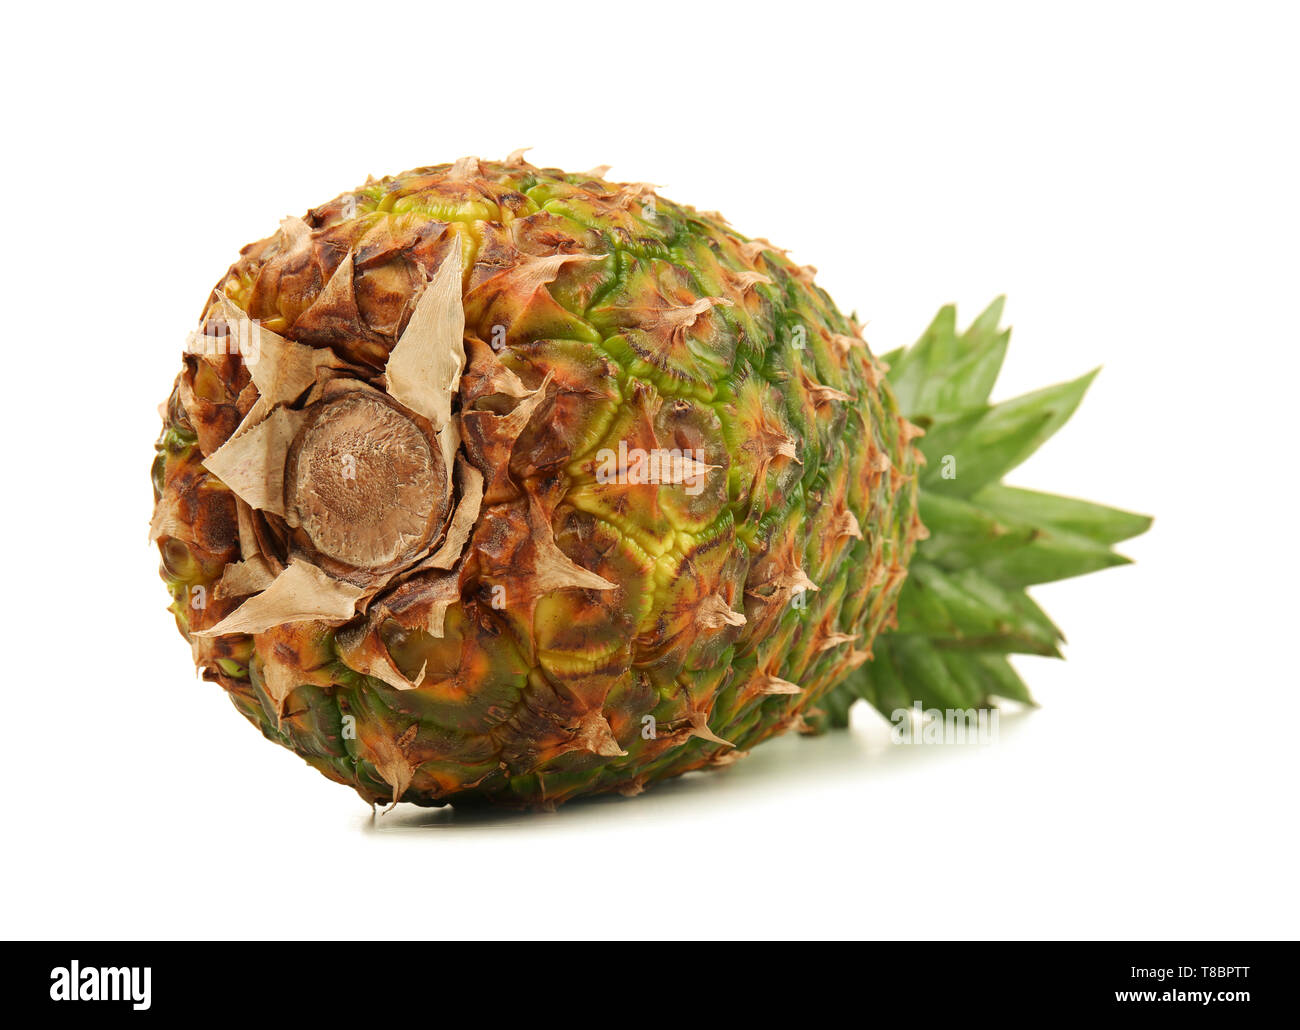pineapple: (133, 188, 1148, 840)
